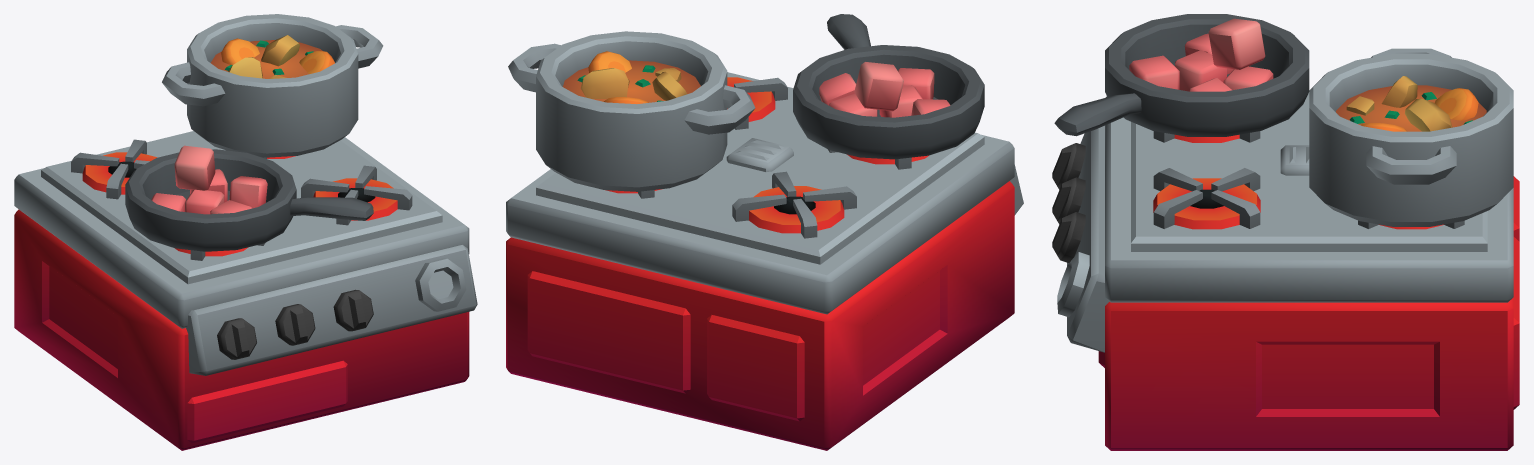
Rendered from stove_multi_decorated.glb.
The picture shows the model from 3 angles, left to right: view 1: azimuth 30°, elevation 25°; view 2: azimuth 150°, elevation 25°; view 3: azimuth 270°, elevation 25°; orthographic projection. The views are drawn at different scales.
Parts seen in each view (by area): view 1: stove_multi_decorated_Cube.003; view 2: stove_multi_decorated_Cube.003; view 3: stove_multi_decorated_Cube.003.
Boxes of the visible parts, box(x1,y1,x2,y2) form: stove_multi_decorated_Cube.003: box(14, 14, 477, 450); stove_multi_decorated_Cube.003: box(506, 14, 1023, 450); stove_multi_decorated_Cube.003: box(1052, 14, 1519, 450).
Bounding box in the file's own units: 2.2 × 1.72 × 2.29.
1 material, 1 textured.
